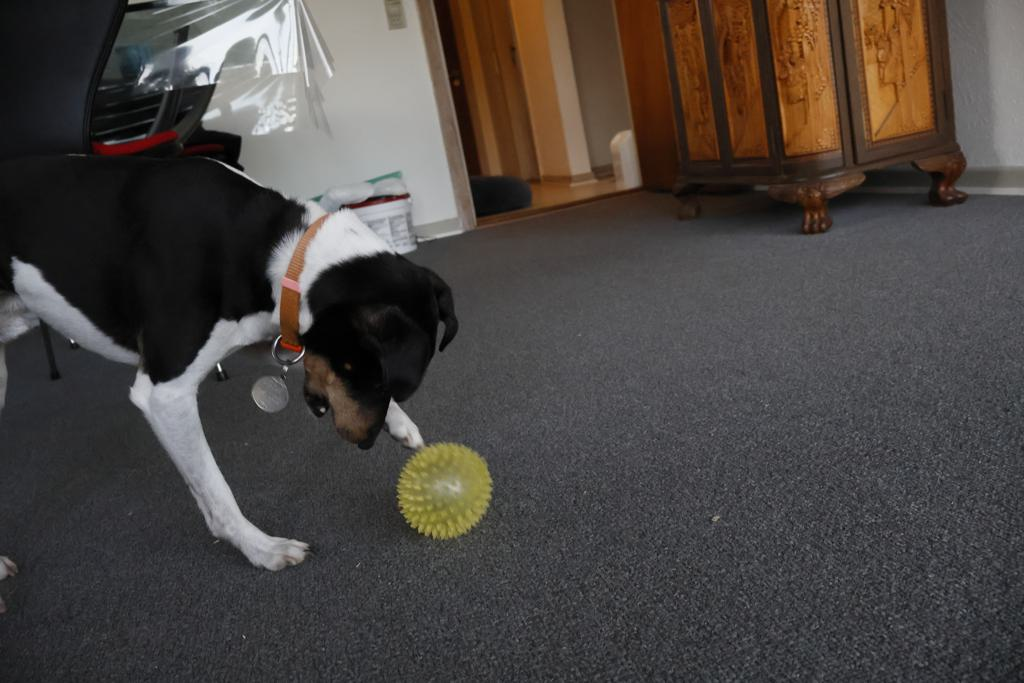Dog: (0, 131, 466, 599)
